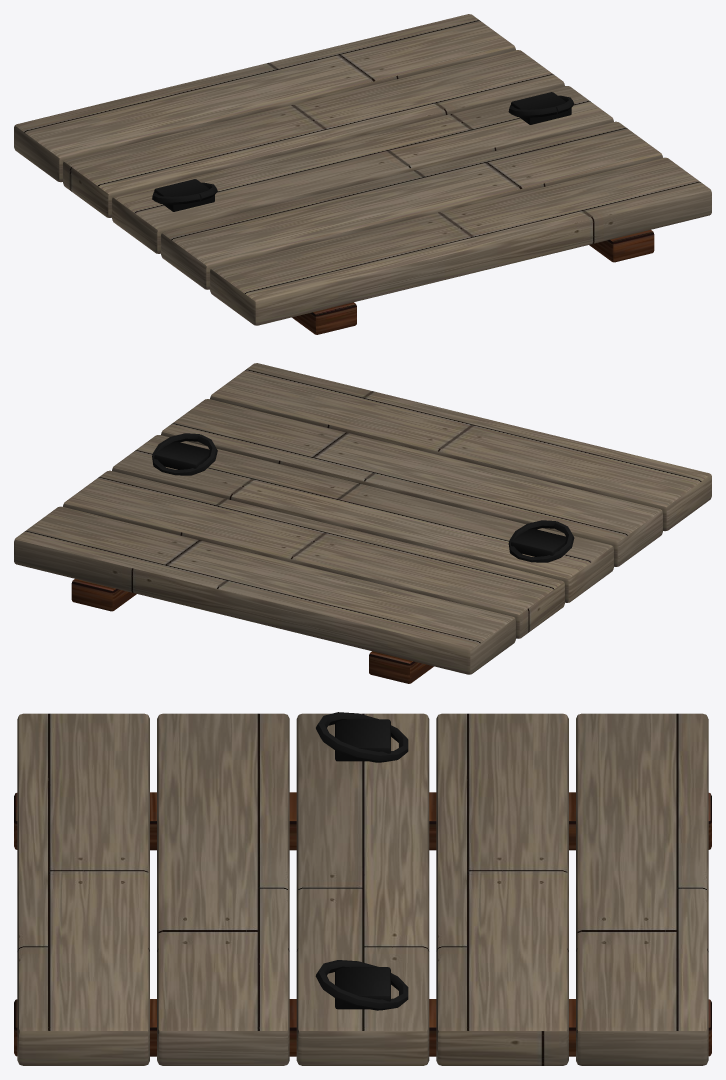
File: hatch_cover.glb
The picture shows the model from 3 angles, top to bottom: view 1: azimuth 30°, elevation 25°; view 2: azimuth 150°, elevation 25°; view 3: azimuth 270°, elevation 25°; orthographic projection. The views are drawn at different scales.
Parts seen in each view (by area): view 1: boat_deck, boat_iron, boat_house; view 2: boat_deck, boat_iron, boat_house; view 3: boat_deck, boat_iron, boat_house.
Boxes of the visible parts, left/top/right/bottom form: boat_deck: left=14, top=14, right=711, bottom=325; boat_iron: left=152, top=92, right=574, bottom=211; boat_house: left=292, top=230, right=654, bottom=334; boat_deck: left=14, top=363, right=711, bottom=674; boat_iron: left=152, top=433, right=574, bottom=562; boat_house: left=71, top=579, right=433, bottom=683; boat_deck: left=17, top=713, right=708, bottom=1065; boat_iron: left=315, top=712, right=408, bottom=1010; boat_house: left=14, top=792, right=711, bottom=1056.
Size of the model in its own units: 1.08 by 0.1469 by 1.
Materials: 3 (3 with a texture image).
